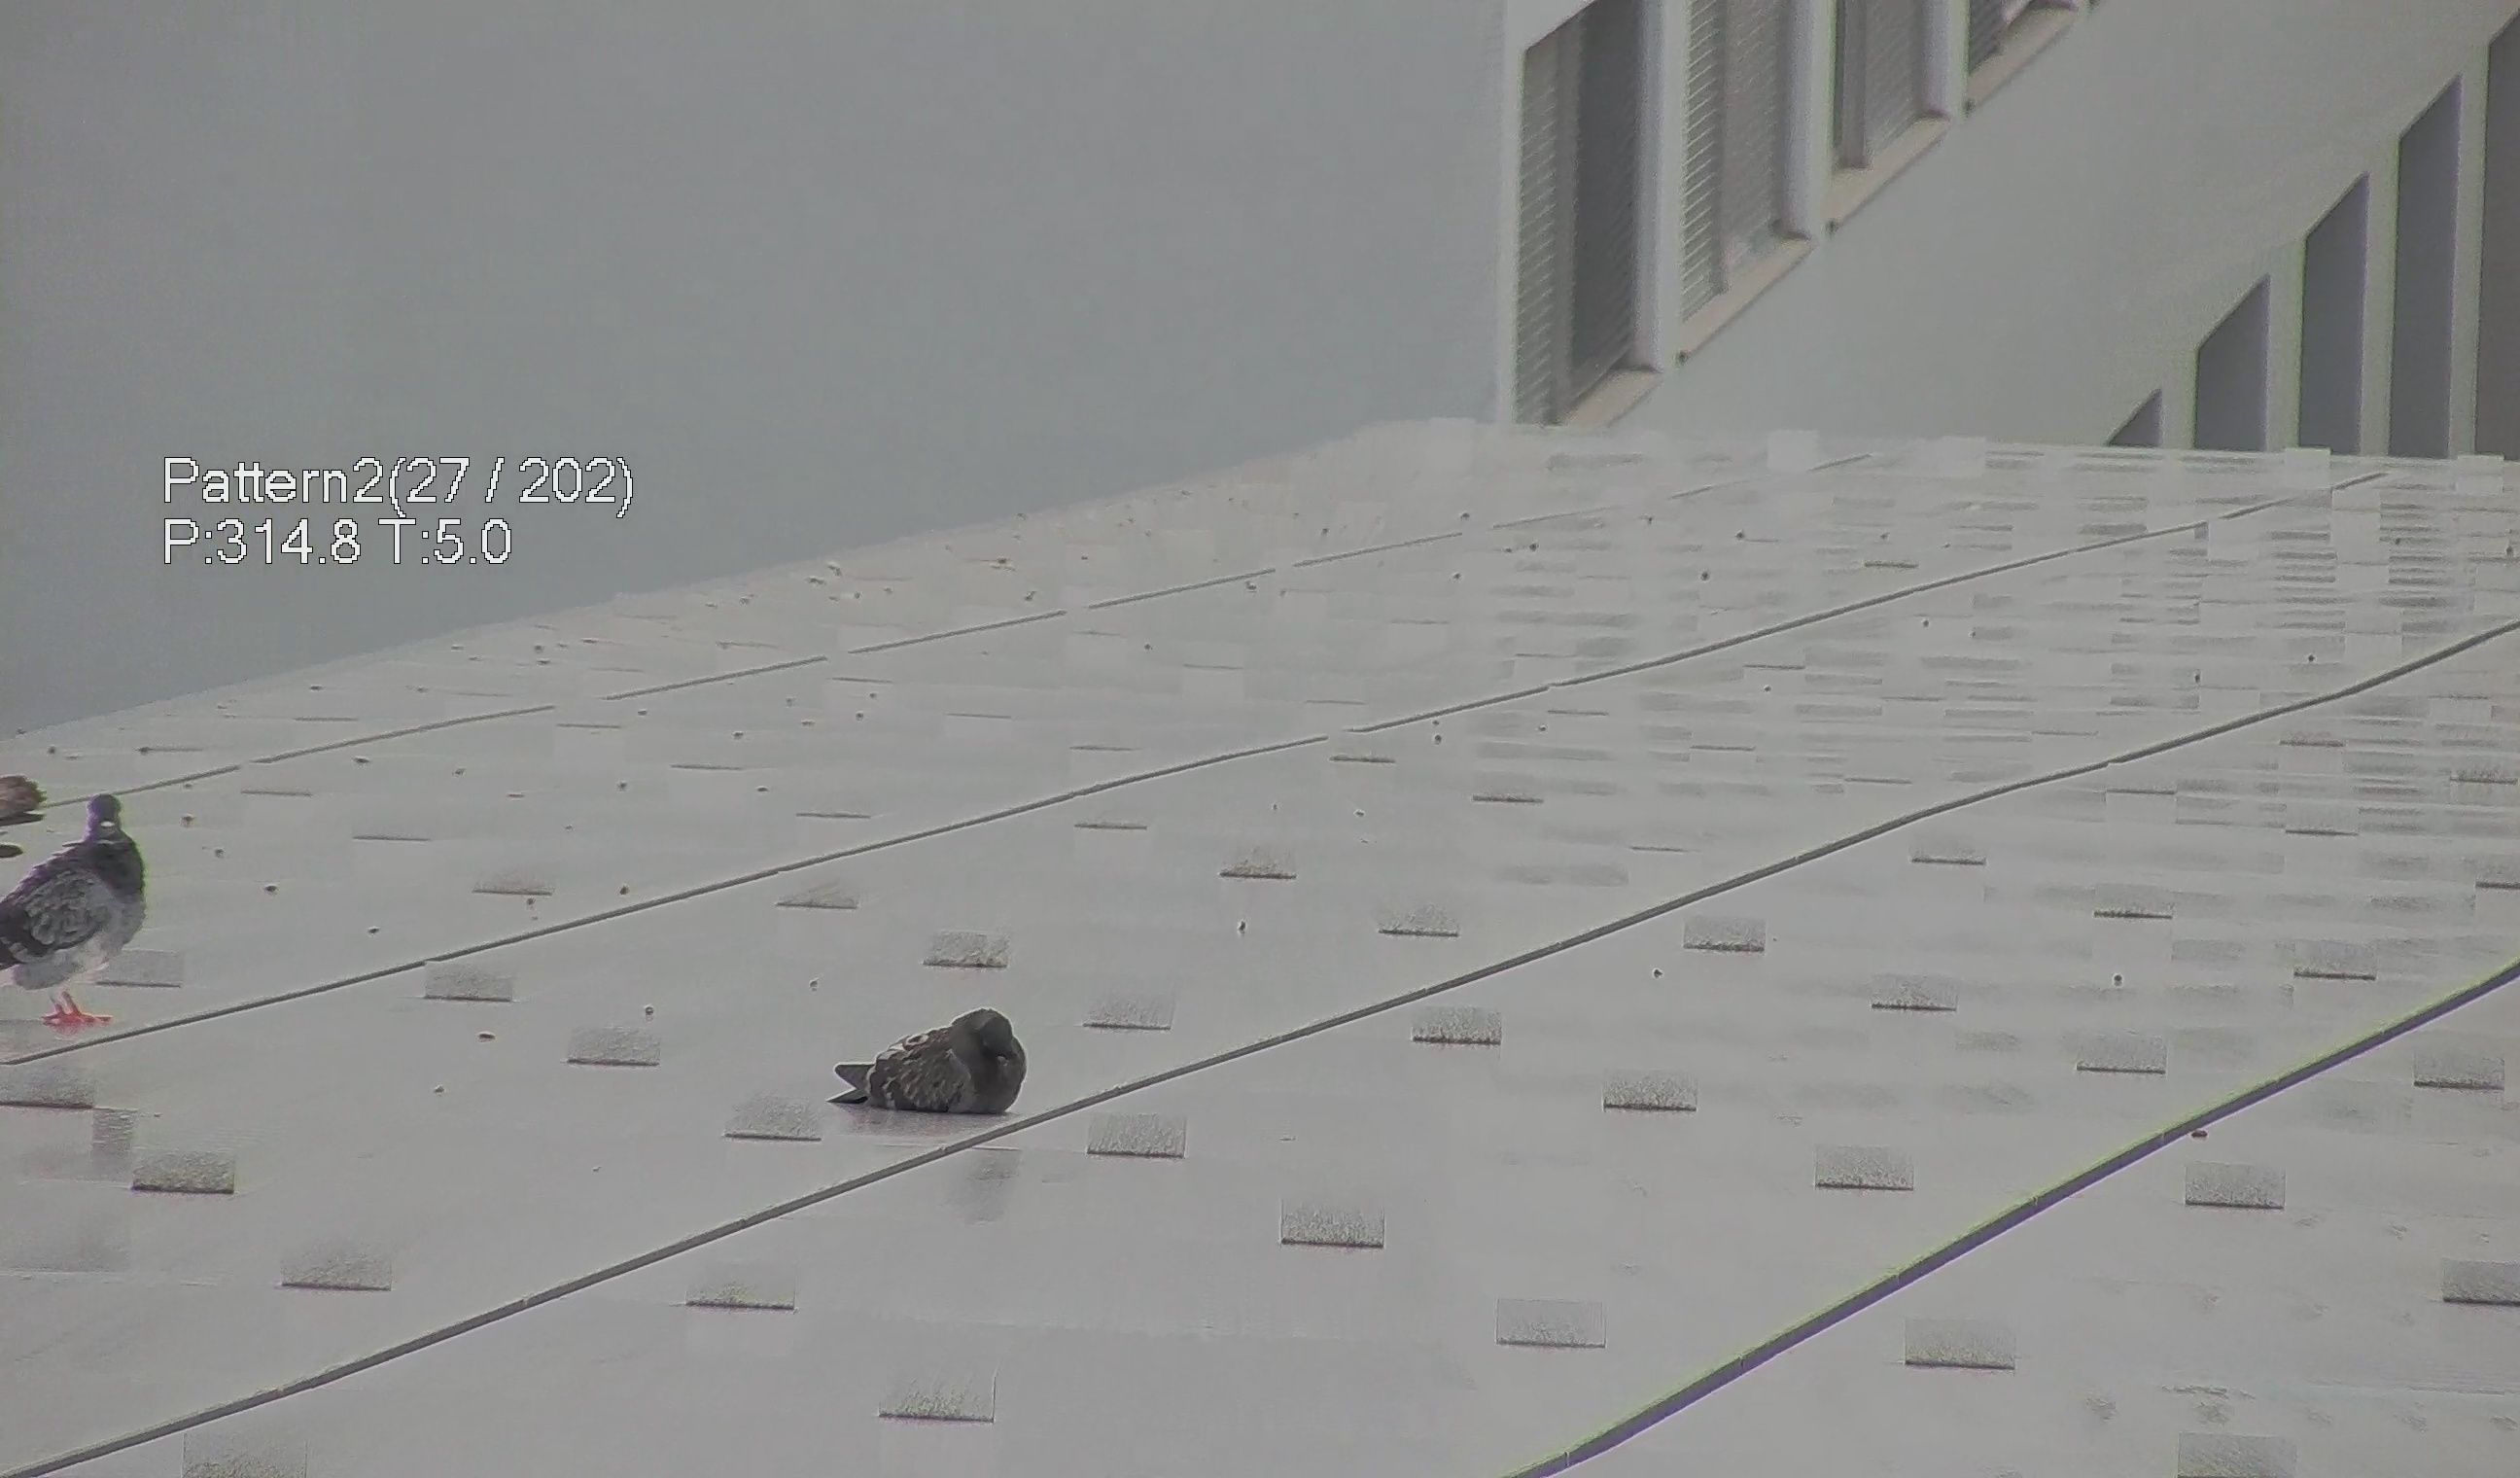Pigeon: (9, 799, 167, 1031), (827, 1005, 1034, 1128)
